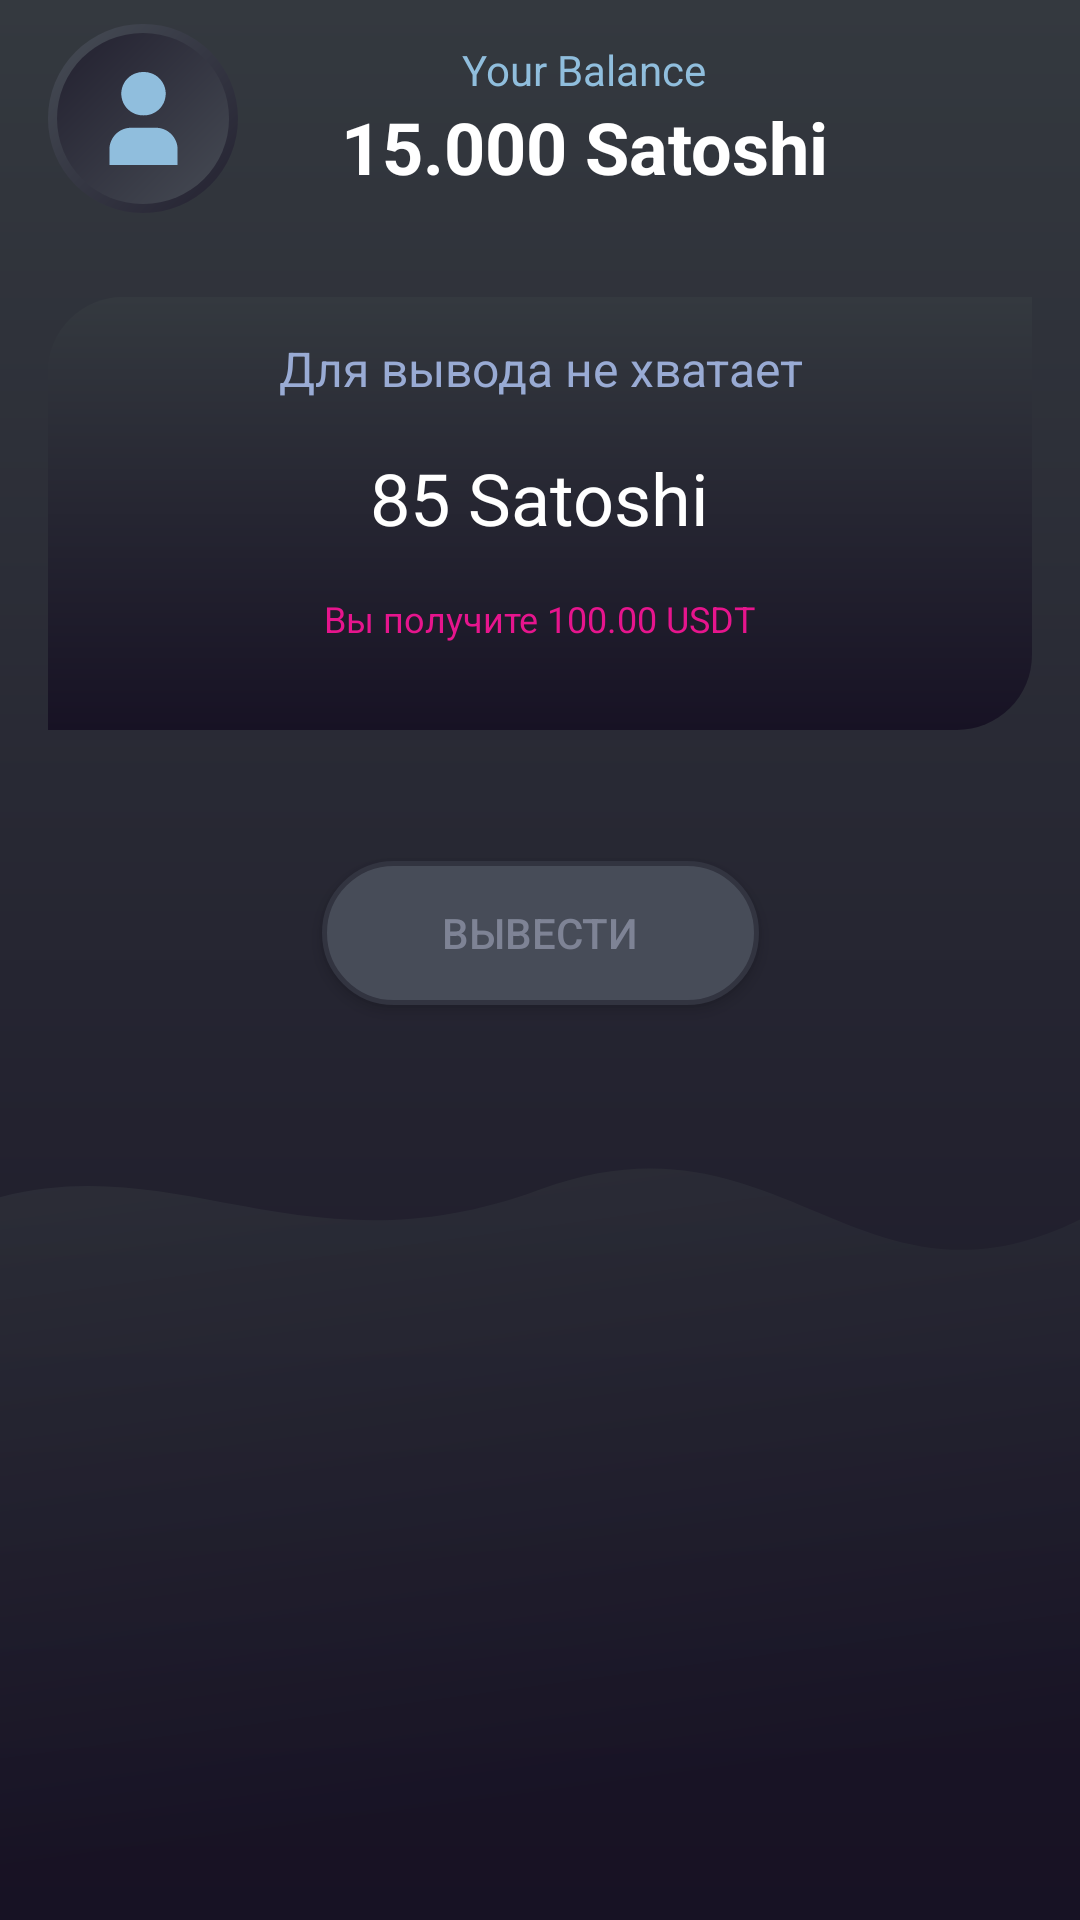

Named icons in this screenshot (1080×1920) and their centers, point (x, y):
user: point (143, 118)
